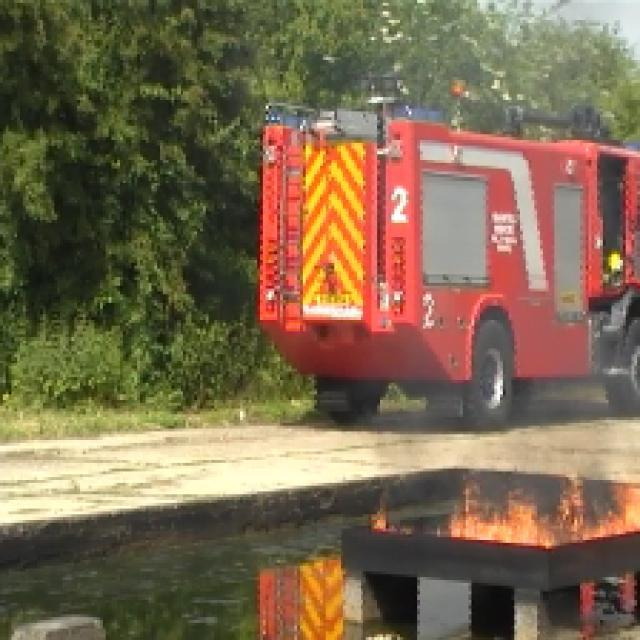Fire: (433, 481, 640, 550)
